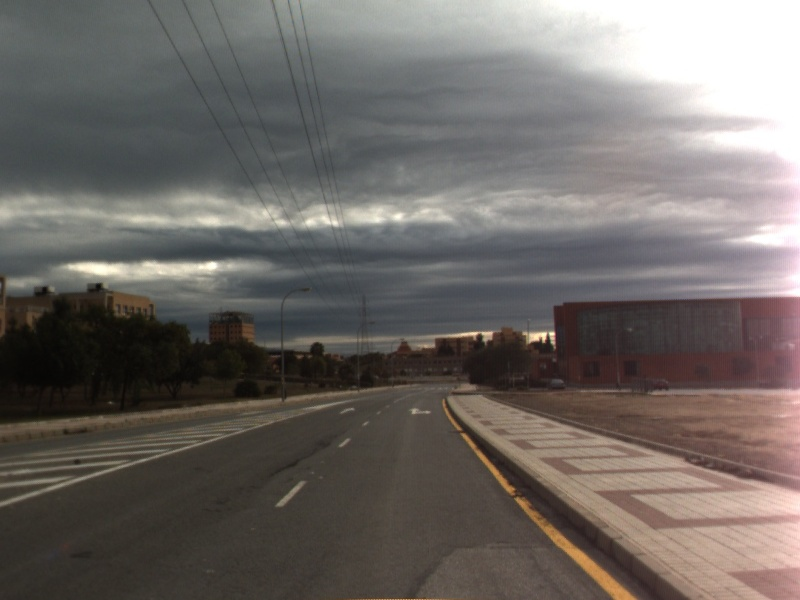STRAIGHT: (337, 404, 357, 417)
STRAIGHT_RIGHT: (406, 405, 434, 417)
